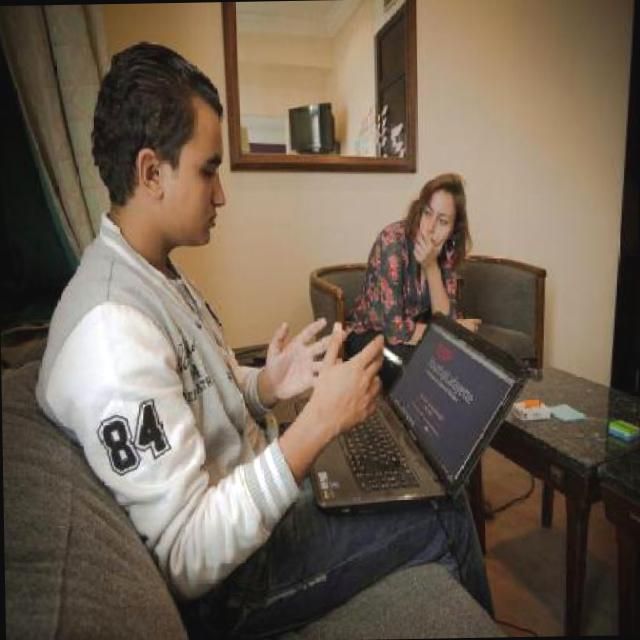Person: (27, 32, 496, 635), (346, 172, 480, 348)
